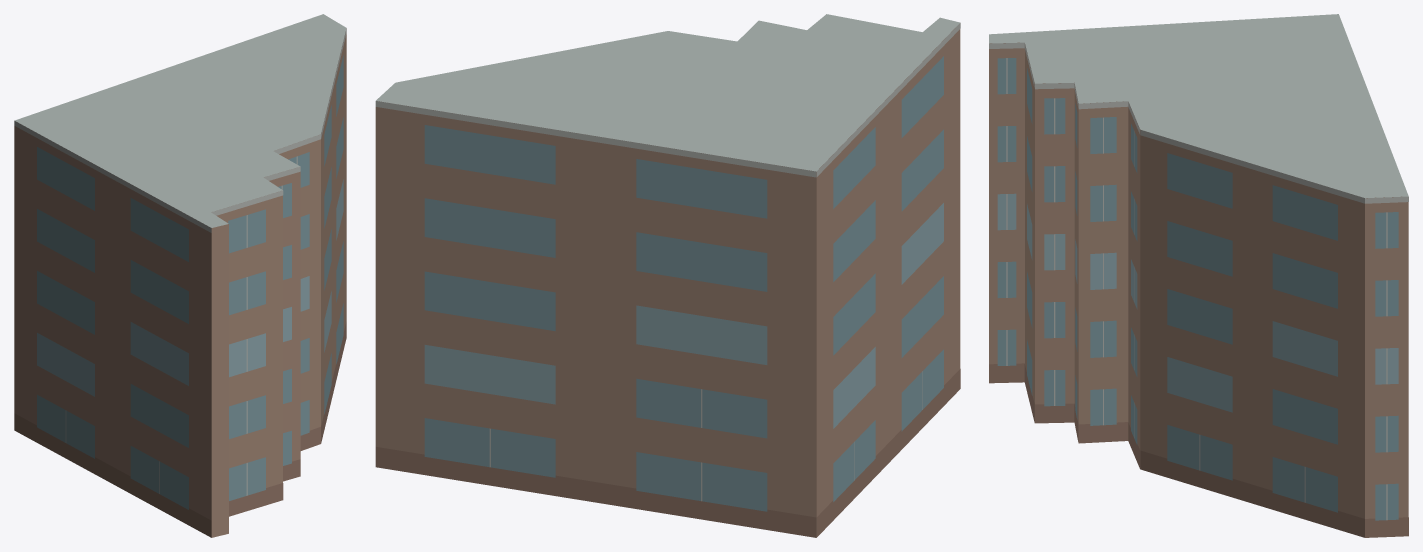
File: survey-upis-32760598.glb
3 views of the same model, side by side, from view 1: azimuth 30°, elevation 25°; view 2: azimuth 150°, elevation 25°; view 3: azimuth 270°, elevation 25° (orthographic). The views are drawn at different scales.
Visible parts, largest first — view 1: survey-upis-32760598.tmp; view 2: survey-upis-32760598.tmp; view 3: survey-upis-32760598.tmp.
Part boxes in pixels (<box>): survey-upis-32760598.tmp: <box>14,14,346,537</box>; survey-upis-32760598.tmp: <box>375,14,960,537</box>; survey-upis-32760598.tmp: <box>989,14,1408,537</box>.
Bounding box in the file's own units: 17.22 × 14.8 × 16.58.
